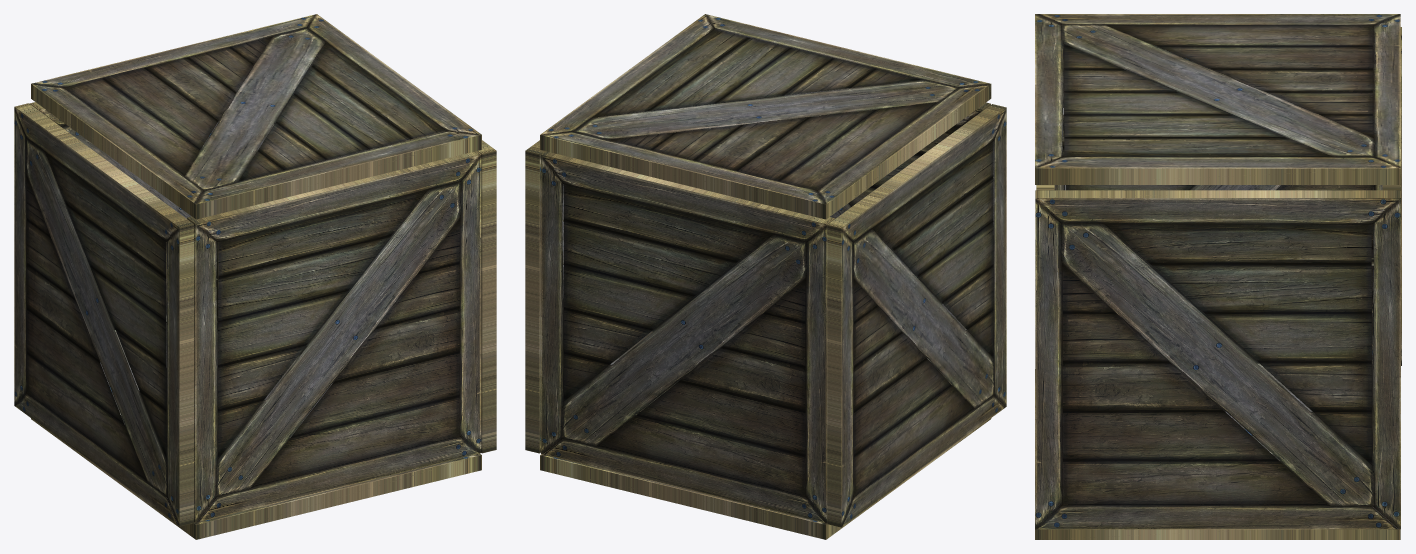
File: WoodCrate_small_fragments.FBX
3 renders of one model, left to right at view 1: azimuth 30°, elevation 25°; view 2: azimuth 150°, elevation 25°; view 3: azimuth 270°, elevation 25°, orthographic. The views are drawn at different scales.
Visible parts, largest first — view 1: WoodenCrate_small_dest_w007_frag_448, WoodenCrate_small_dest_w007_frag_058, WoodenCrate_small_dest_w007_frag_492, WoodenCrate_small_dest_w007_frag_071, WoodenCrate_small_dest_w007_frag_504, WoodenCrate_small_dest_w007_frag_445, WoodenCrate_small_dest_w007_frag_413, WoodenCrate_small_dest_w007_frag_422, WoodenCrate_small_dest_w007_frag_442, WoodenCrate_small_dest_w007_frag_426, WoodenCrate_small_dest_w007_frag_458, WoodenCrate_small_dest_w007_frag_451 (+33 smaller); view 2: WoodenCrate_small_dest_w007_frag_373, WoodenCrate_small_dest_w007_frag_058, WoodenCrate_small_dest_w007_frag_492, WoodenCrate_small_dest_w007_frag_069, WoodenCrate_small_dest_w007_frag_370, WoodenCrate_small_dest_w007_frag_339, WoodenCrate_small_dest_w007_frag_502, WoodenCrate_small_dest_w007_frag_347, WoodenCrate_small_dest_w007_frag_367, WoodenCrate_small_dest_w007_frag_351, WoodenCrate_small_dest_w007_frag_333, WoodenCrate_small_dest_w007_frag_332 (+32 smaller); view 3: WoodenCrate_small_dest_w007_frag_464, WoodenCrate_small_dest_w007_frag_379, WoodenCrate_small_dest_w007_frag_467, WoodenCrate_small_dest_w007_frag_492, WoodenCrate_small_dest_w007_frag_387, WoodenCrate_small_dest_w007_frag_505, WoodenCrate_small_dest_w007_frag_409, WoodenCrate_small_dest_w007_frag_391, WoodenCrate_small_dest_w007_frag_378, WoodenCrate_small_dest_w007_frag_376, WoodenCrate_small_dest_w007_frag_374, WoodenCrate_small_dest_w007_frag_461 (+20 smaller).
Boxes of the visible parts, <box> form: WoodenCrate_small_dest_w007_frag_448: <box>217,182,460,496</box>; WoodenCrate_small_dest_w007_frag_058: <box>26,139,166,495</box>; WoodenCrate_small_dest_w007_frag_492: <box>184,28,324,190</box>; WoodenCrate_small_dest_w007_frag_071: <box>166,225,193,526</box>; WoodenCrate_small_dest_w007_frag_504: <box>195,131,481,219</box>; WoodenCrate_small_dest_w007_frag_445: <box>251,397,459,488</box>; WoodenCrate_small_dest_w007_frag_413: <box>187,151,481,241</box>; WoodenCrate_small_dest_w007_frag_422: <box>216,190,426,279</box>; WoodenCrate_small_dest_w007_frag_442: <box>290,352,459,437</box>; WoodenCrate_small_dest_w007_frag_426: <box>216,237,389,321</box>; WoodenCrate_small_dest_w007_frag_458: <box>187,219,217,522</box>; WoodenCrate_small_dest_w007_frag_451: <box>459,155,481,452</box>; WoodenCrate_small_dest_w007_frag_373: <box>563,234,805,446</box>; WoodenCrate_small_dest_w007_frag_058: <box>853,229,993,409</box>; WoodenCrate_small_dest_w007_frag_492: <box>574,80,957,139</box>; WoodenCrate_small_dest_w007_frag_069: <box>827,226,853,526</box>; WoodenCrate_small_dest_w007_frag_370: <box>597,415,805,496</box>; WoodenCrate_small_dest_w007_frag_339: <box>541,151,835,241</box>; WoodenCrate_small_dest_w007_frag_502: <box>541,131,825,219</box>; WoodenCrate_small_dest_w007_frag_347: <box>564,184,771,262</box>; WoodenCrate_small_dest_w007_frag_367: <box>636,381,805,456</box>; WoodenCrate_small_dest_w007_frag_351: <box>564,221,735,295</box>; WoodenCrate_small_dest_w007_frag_333: <box>541,156,563,454</box>; WoodenCrate_small_dest_w007_frag_332: <box>805,226,827,522</box>; WoodenCrate_small_dest_w007_frag_464: <box>1062,223,1372,506</box>; WoodenCrate_small_dest_w007_frag_379: <box>1035,190,1400,223</box>; WoodenCrate_small_dest_w007_frag_467: <box>1062,461,1329,506</box>; WoodenCrate_small_dest_w007_frag_492: <box>1063,24,1373,156</box>; WoodenCrate_small_dest_w007_frag_387: <box>1105,223,1371,265</box>; WoodenCrate_small_dest_w007_frag_505: <box>1035,156,1400,184</box>; WoodenCrate_small_dest_w007_frag_409: <box>1062,411,1279,460</box>; WoodenCrate_small_dest_w007_frag_391: <box>1151,265,1371,313</box>; WoodenCrate_small_dest_w007_frag_378: <box>1371,199,1400,529</box>; WoodenCrate_small_dest_w007_frag_376: <box>1035,199,1062,528</box>; WoodenCrate_small_dest_w007_frag_374: <box>1037,505,1398,529</box>; WoodenCrate_small_dest_w007_frag_461: <box>1204,313,1371,363</box>.
Bounding box in the file's own units: 66.42 × 60.2 × 67.23.
